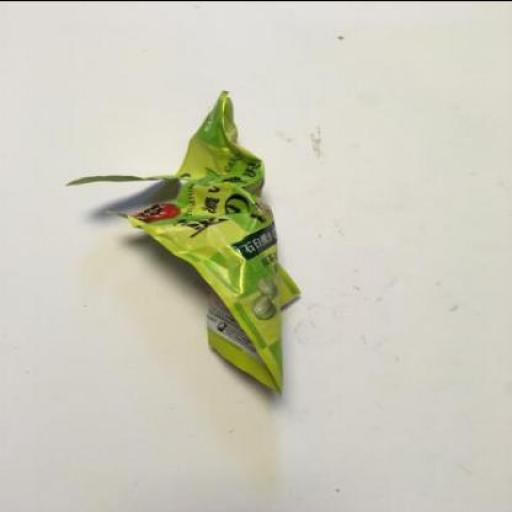plastic: (66, 88, 303, 397)
